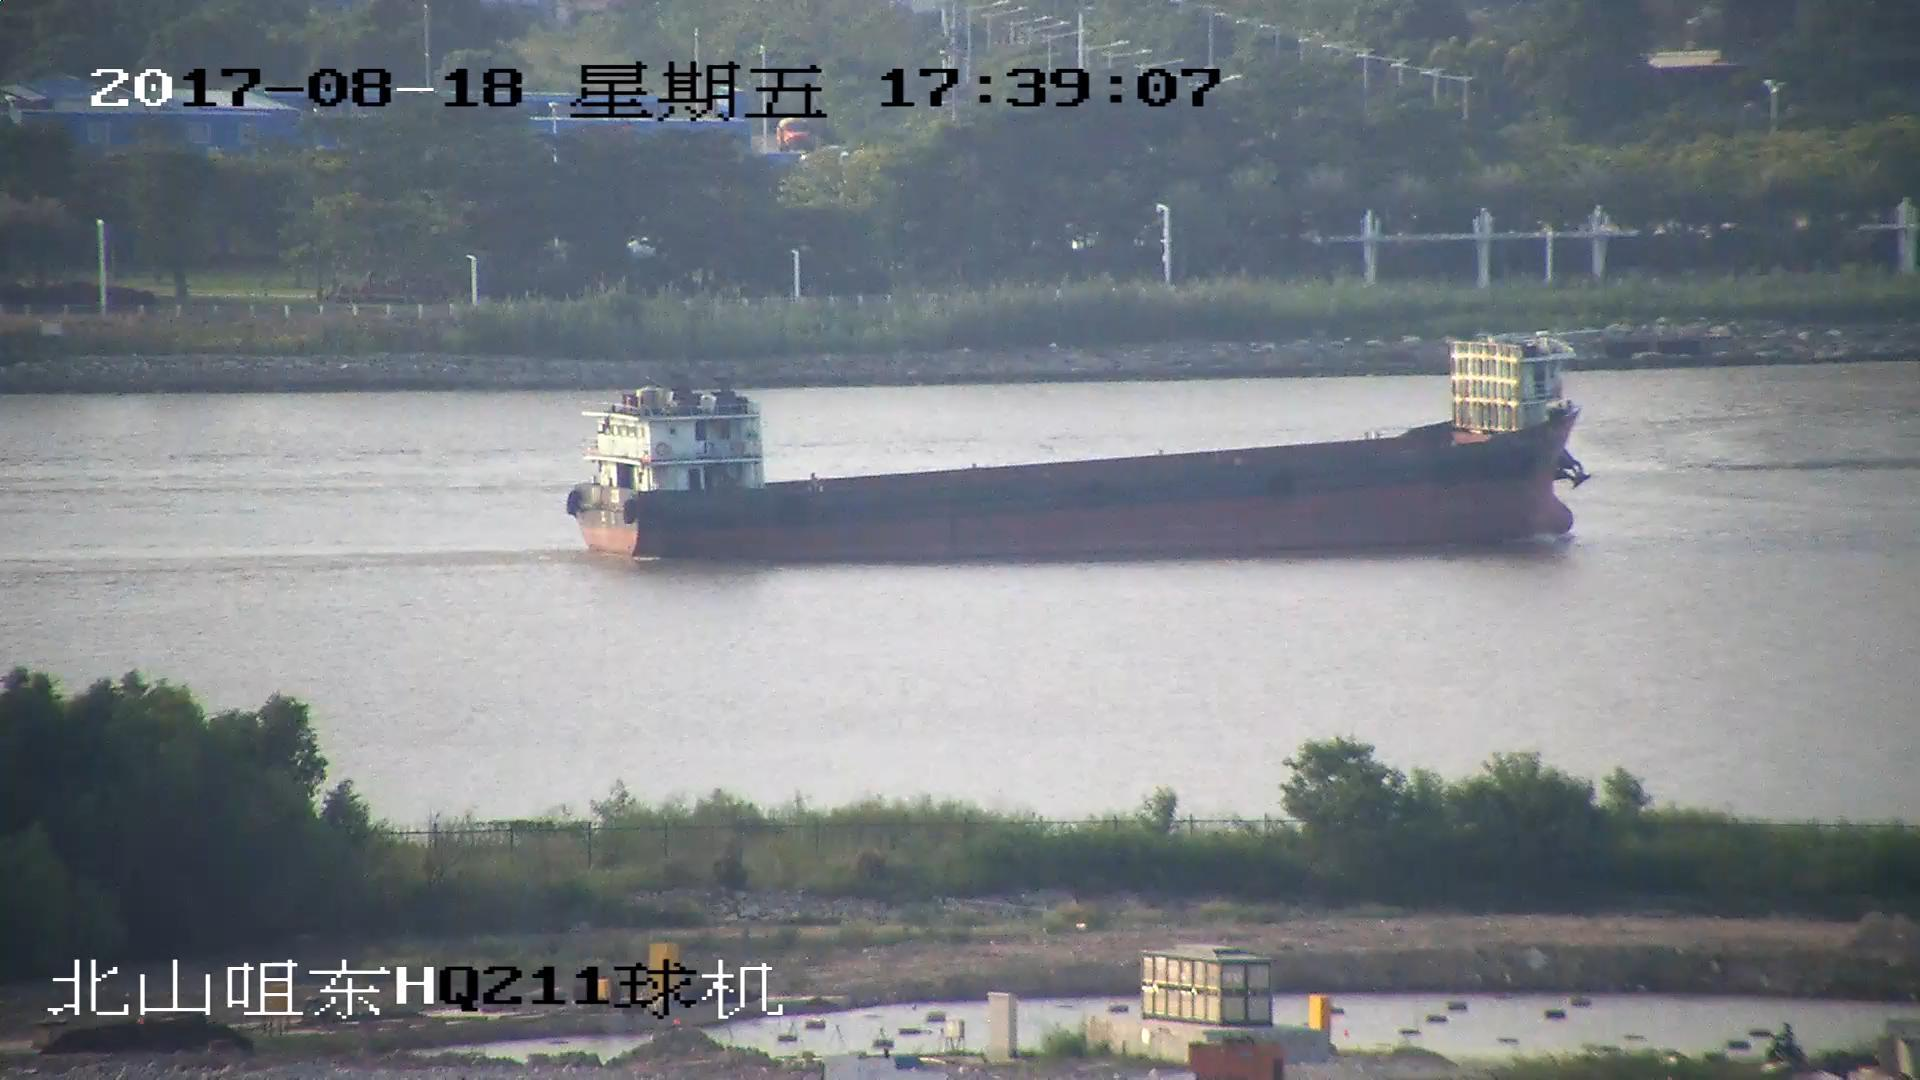Ship: (568, 328, 1578, 555)
